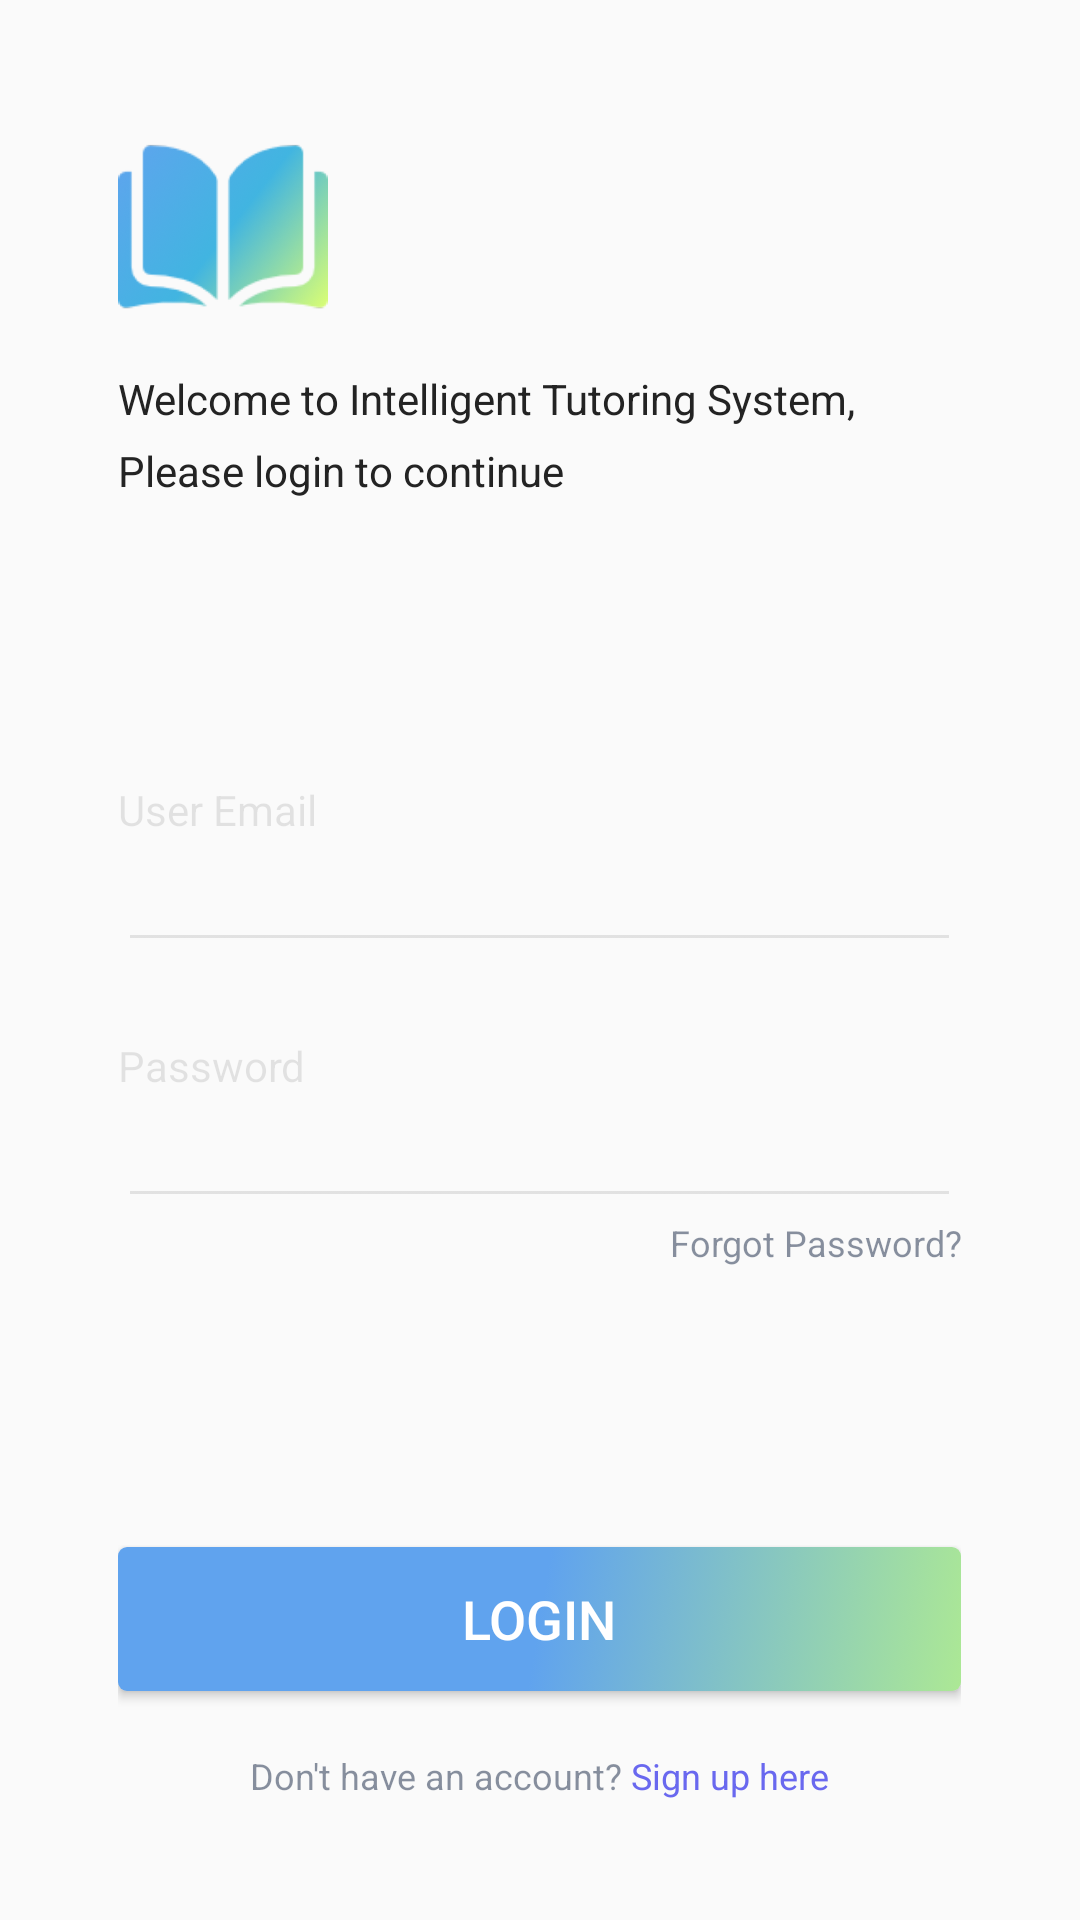

Icons on this 1080px×1920px Android screen, each with its box as BBox(x1, y1, x2, y2):
book: BBox(118, 145, 328, 309)
